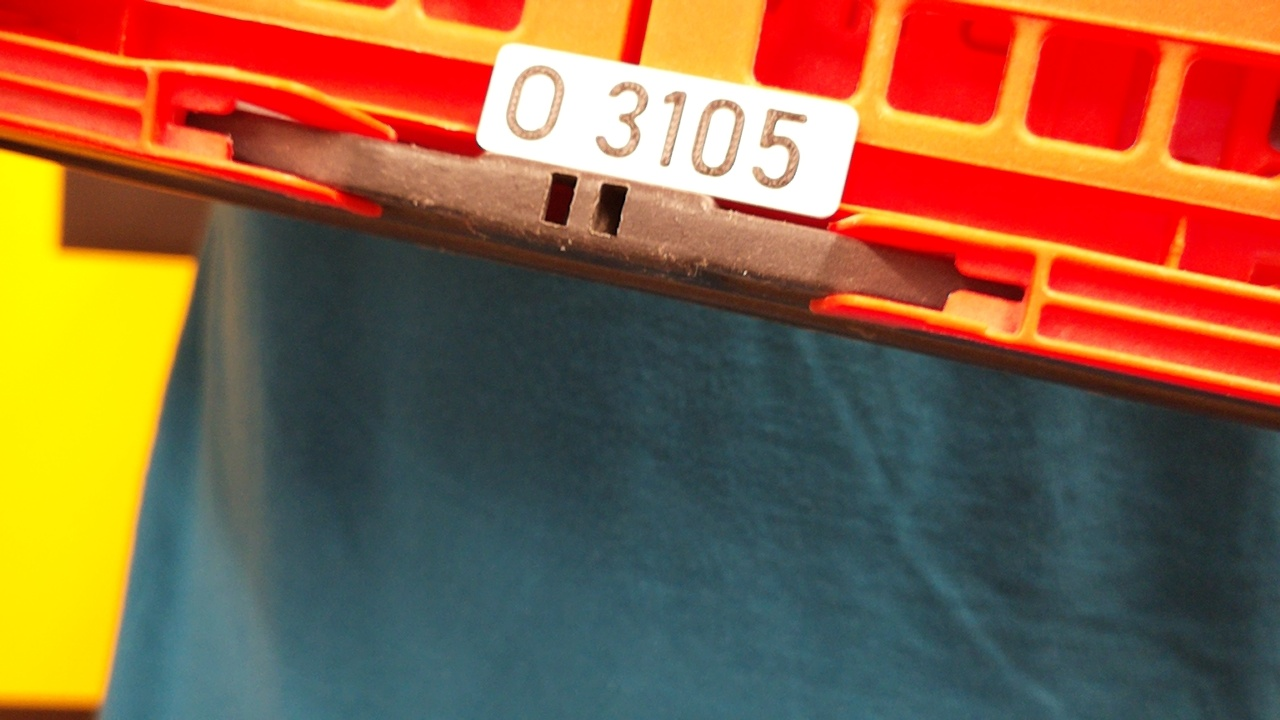license_plate: (474, 38, 862, 218)
